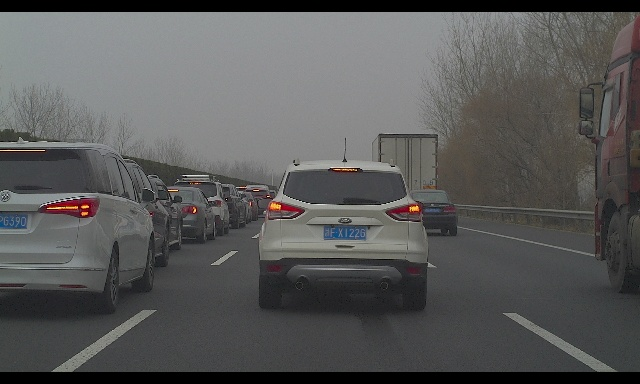car: (0, 137, 156, 314), (256, 158, 428, 311), (59, 159, 171, 267), (98, 174, 183, 249), (172, 175, 232, 236), (152, 187, 217, 243), (404, 190, 458, 236), (202, 184, 246, 229), (224, 191, 253, 224), (244, 187, 272, 218), (231, 192, 258, 221)
truck: (579, 14, 640, 293), (372, 133, 438, 215)
